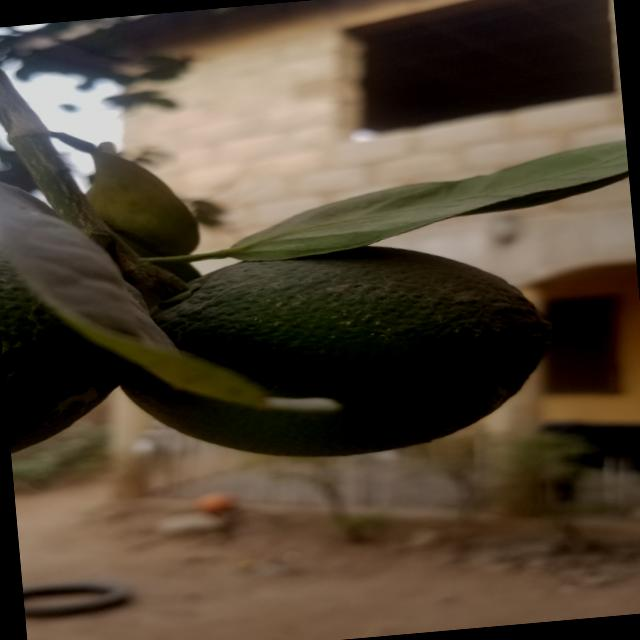Unripe: (117, 242, 556, 464), (0, 223, 153, 451)
